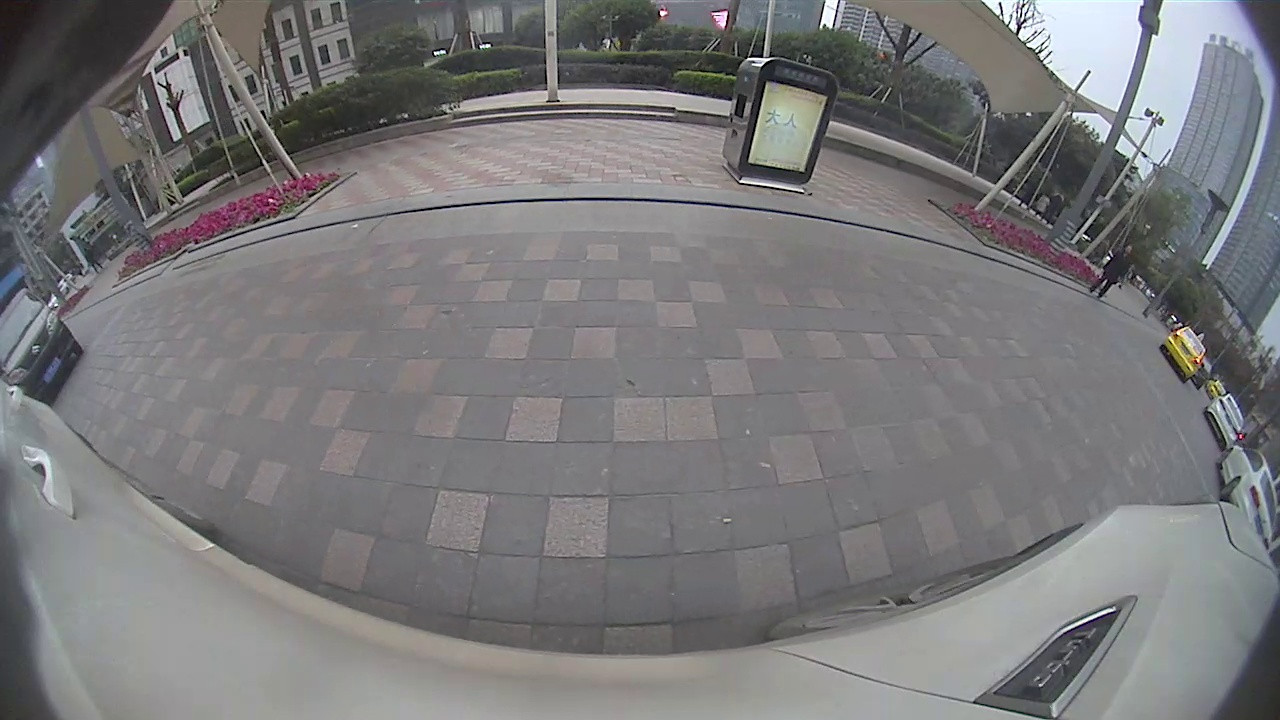car: (3, 284, 84, 404), (1159, 325, 1208, 383), (1203, 390, 1246, 453)
person: (1094, 242, 1133, 302)
